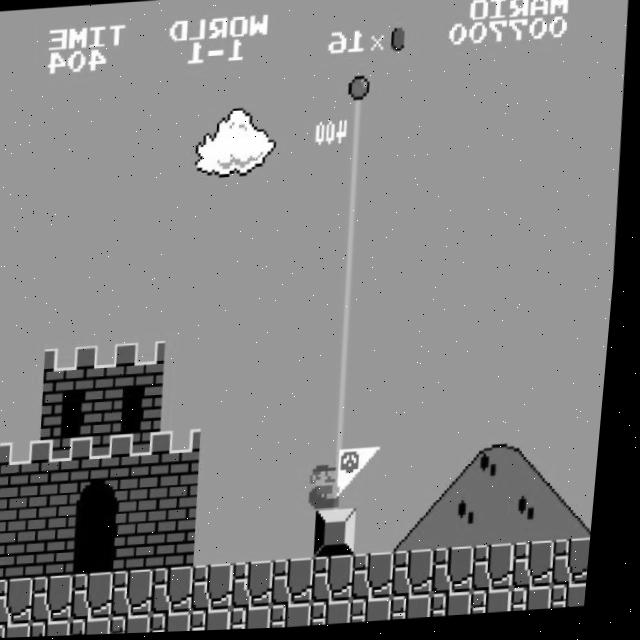1- brick_block: (41, 529, 87, 577)
17- undestructible_block: (520, 544, 567, 593), (480, 547, 527, 595), (440, 549, 487, 597), (119, 570, 166, 618), (79, 573, 126, 621), (39, 575, 86, 623), (160, 567, 206, 616), (400, 552, 446, 600), (360, 555, 406, 603), (320, 557, 366, 605), (280, 560, 326, 608), (240, 562, 286, 610), (200, 565, 246, 613), (0, 577, 45, 626), (561, 541, 601, 589), (400, 597, 444, 623), (280, 605, 324, 631), (520, 590, 564, 615), (480, 593, 524, 618), (440, 595, 484, 620), (360, 600, 404, 625), (320, 603, 364, 628), (240, 607, 284, 632), (200, 610, 244, 633), (560, 587, 598, 612), (160, 613, 204, 634), (120, 615, 164, 635), (80, 618, 123, 636), (40, 620, 83, 638), (0, 622, 43, 639), (0, 580, 5, 628), (0, 626, 2, 640)
7- goal_pole: (326, 374, 373, 423), (331, 238, 378, 286), (323, 466, 370, 514), (338, 55, 384, 103), (336, 100, 382, 148), (330, 283, 376, 331), (325, 420, 371, 468), (334, 147, 380, 194), (333, 192, 379, 239), (328, 329, 374, 376)
9- hard_block: (322, 511, 368, 559)
